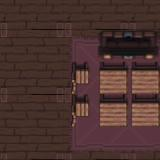Hide: (96, 30, 160, 61)
Obstacle: (64, 94, 96, 128), (96, 94, 128, 128), (128, 94, 160, 128), (96, 62, 129, 94), (128, 61, 160, 94), (64, 62, 96, 94)
